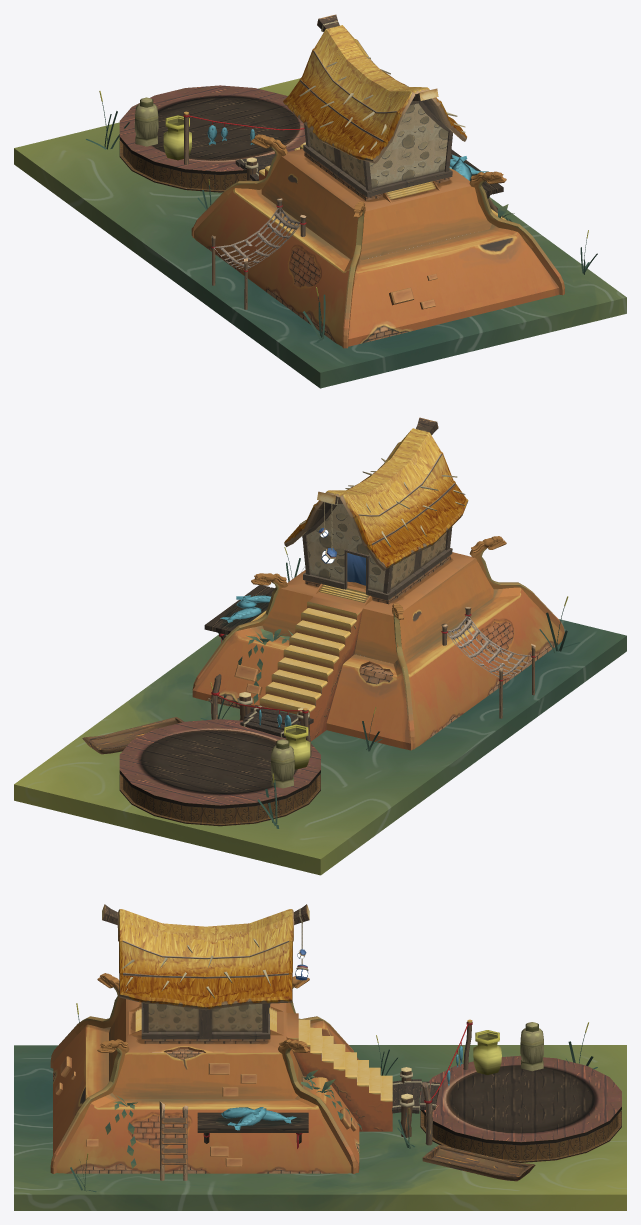
The model's file is Fishing_Hut.fbx.
3 views of the same model, one above another, from view 1: azimuth 30°, elevation 25°; view 2: azimuth 150°, elevation 25°; view 3: azimuth 270°, elevation 25° (orthographic).
Parts seen in each view (by area): view 1: Box001, Plane003, Cylinder010, Cylinder009, Object002; view 2: Box001, Plane003, Cylinder009, Cylinder010, Object002; view 3: Box001, Plane003, Cylinder009, Cylinder010, Object002.
Boxes of the visible parts, x1=… form: Box001: x1=191, y1=142, x2=559, y2=346; Plane003: x1=14, y1=78, x2=626, y2=388; Cylinder010: x1=283, y1=14, x2=466, y2=197; Cylinder009: x1=119, y1=85, x2=504, y2=309; Object002: x1=134, y1=97, x2=564, y2=348; Box001: x1=192, y1=552, x2=562, y2=750; Plane003: x1=14, y1=547, x2=626, y2=875; Cylinder009: x1=119, y1=585, x2=535, y2=826; Cylinder010: x1=284, y1=417, x2=468, y2=600; Object002: x1=82, y1=536, x2=564, y2=788; Box001: x1=53, y1=999, x2=440, y2=1173; Plane003: x1=14, y1=1003, x2=626, y2=1210; Cylinder009: x1=159, y1=1019, x2=621, y2=1180; Cylinder010: x1=102, y1=904, x2=309, y2=1039; Object002: x1=50, y1=973, x2=543, y2=1181.
Size of the model in its own units: 54.4 by 38.06 by 92.89.
5 materials, 5 textured.
